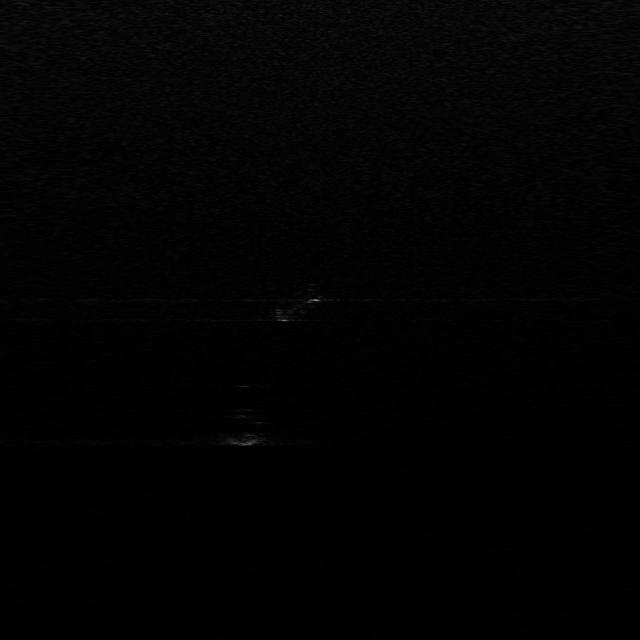ball: (213, 411, 272, 446)
tyre: (272, 285, 323, 319)
